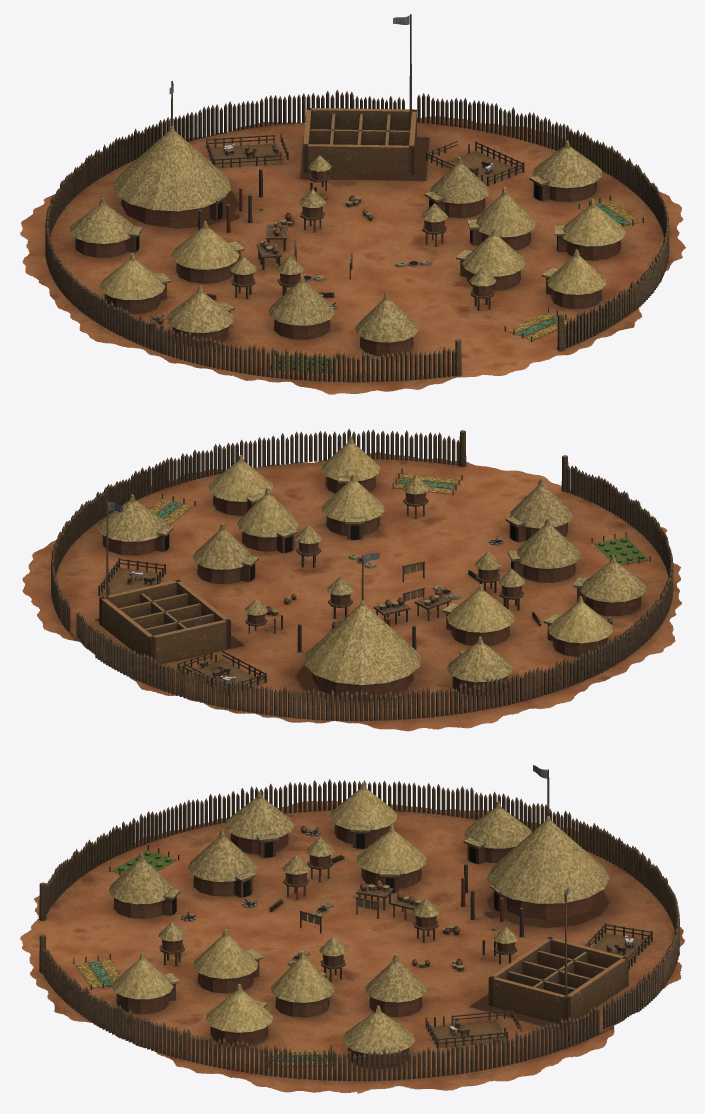
Rendered from stone-town-medium-a-westafrica.glb.
3 views of the same model, one above another, from view 1: azimuth 30°, elevation 25°; view 2: azimuth 150°, elevation 25°; view 3: azimuth 270°, elevation 25° (orthographic). The views are drawn at different scales.
Parts seen in each view (by area): view 1: LOD0; view 2: LOD0; view 3: LOD0.
Part boxes in pixels (x1=…): LOD0: x1=20, y1=14, x2=685, y2=394; LOD0: x1=22, y1=428, x2=681, y2=731; LOD0: x1=20, y1=765, x2=684, y2=1093.
Size of what is drawn, in the model's own units: 6 by 1.23 by 5.7.
Materials: 3 (3 with a texture image).
